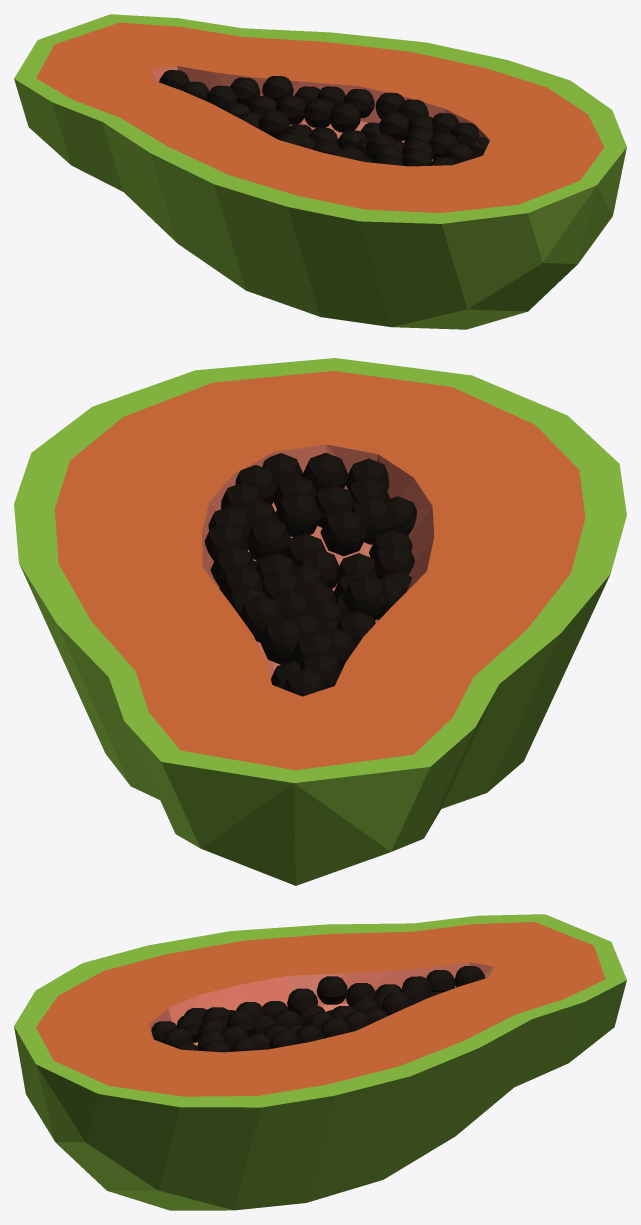
Rendered from Papaya_Cut.glb.
3 renders of one model, top to bottom at view 1: azimuth 30°, elevation 25°; view 2: azimuth 150°, elevation 25°; view 3: azimuth 270°, elevation 25°, orthographic. The views are drawn at different scales.
Parts seen in each view (by area): view 1: Papaya_Cut; view 2: Papaya_Cut; view 3: Papaya_Cut.
Boxes of the visible parts, <box> form: Papaya_Cut: <box>14,14,626,329</box>; Papaya_Cut: <box>14,358,626,885</box>; Papaya_Cut: <box>14,914,626,1210</box>.
Bounding box in the file's own units: 0.3807 × 0.1721 × 0.5.
